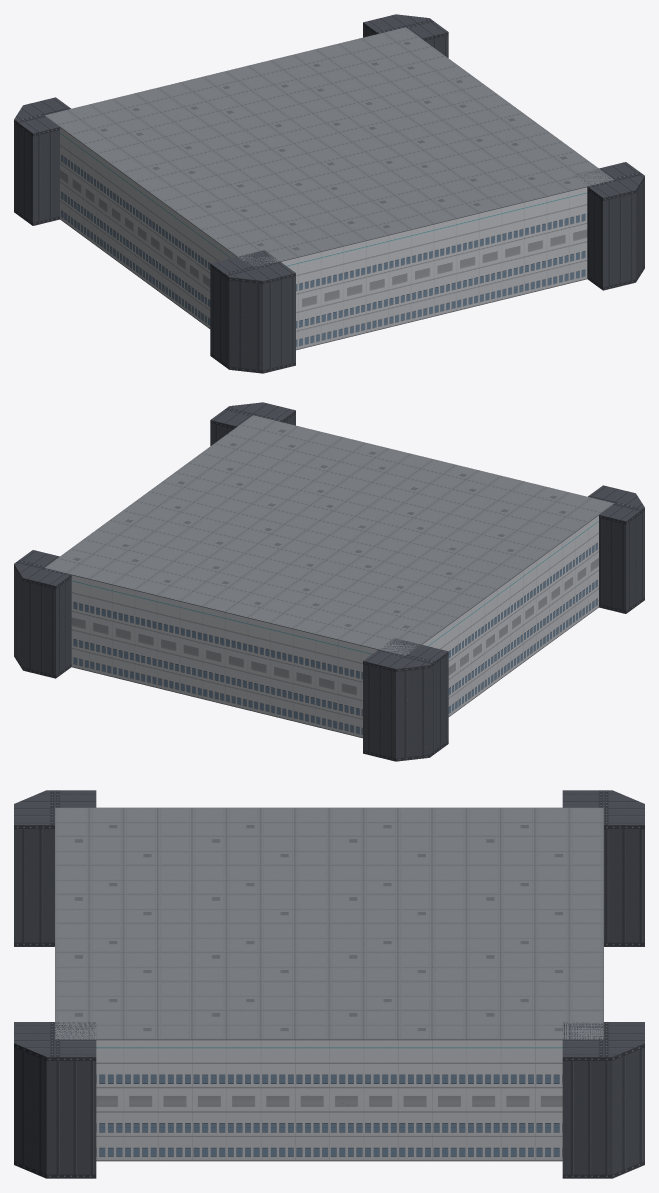
The model's file is BLD_FLR_N_Plain.fbx.
3 renders of one model, top to bottom at view 1: azimuth 30°, elevation 25°; view 2: azimuth 150°, elevation 25°; view 3: azimuth 270°, elevation 25°, orthographic. The views are drawn at different scales.
Parts seen in each view (by area): view 1: BLD_FLR_N_Plain; view 2: BLD_FLR_N_Plain; view 3: BLD_FLR_N_Plain.
Boxes of the visible parts, x1,y1,x2,y2 form: BLD_FLR_N_Plain: (14,14,644,373); BLD_FLR_N_Plain: (14,402,644,761); BLD_FLR_N_Plain: (14,790,644,1178).
Bounding box in the file's own units: 115 × 24.5 × 115.
